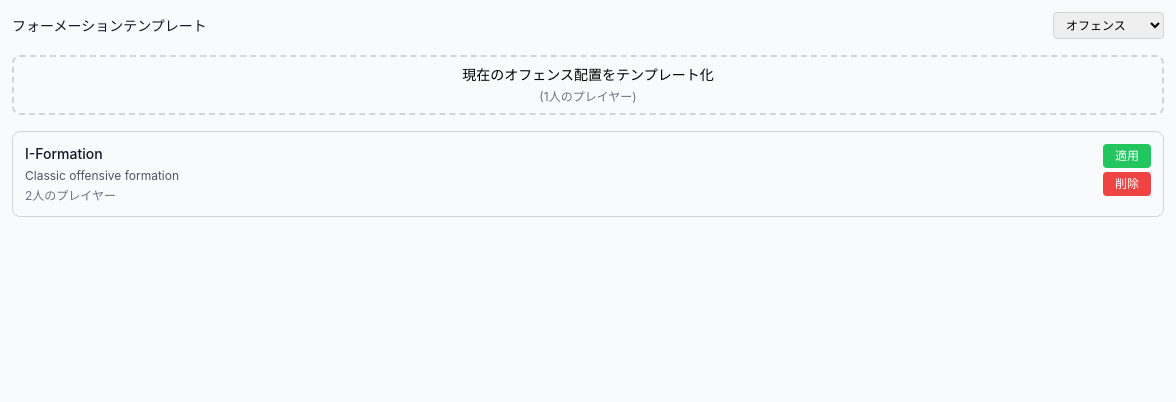
it: FormationTemplateManager Component › 新規テンプレート作成 › キャンセルボタンでフォームが閉じること
Click the button "現在のオフェンス配置をテンプレート化 (1人のプレイヤー)" at (588, 85), box [12, 55, 1164, 115]
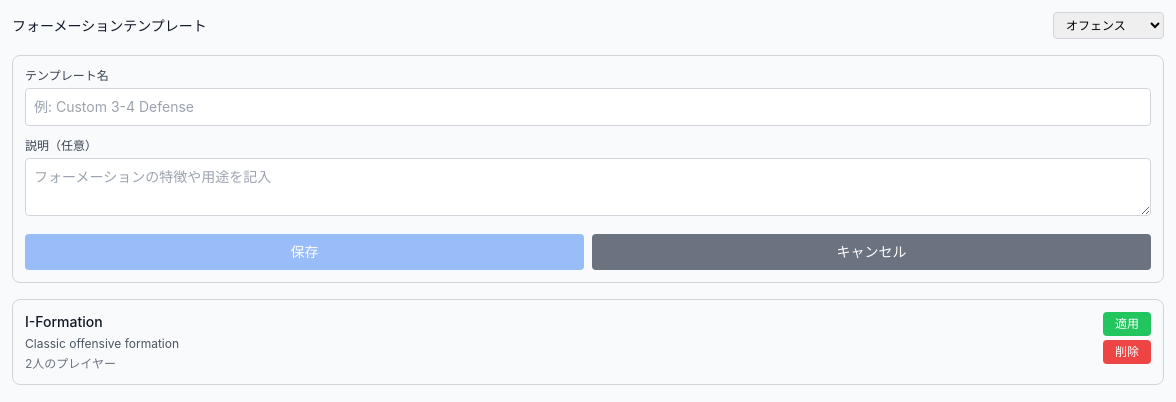
Type "テスト名前" into the field with placeholder "例: Custom 3-4 Defense" at (588, 107), box [25, 88, 1151, 126]
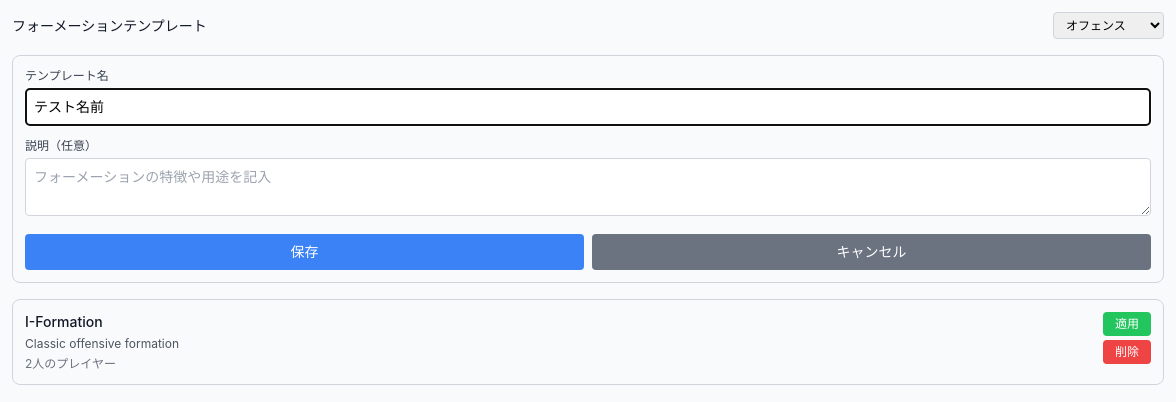
Click the button "キャンセル" at (872, 252), box [592, 234, 1151, 270]
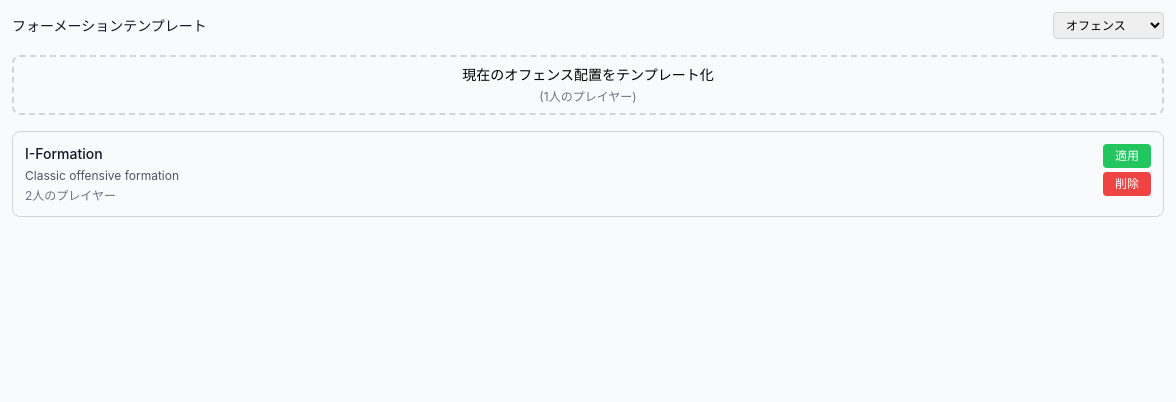
Expected: the field with placeholder "例: Custom 3-4 Defense" is not shown
Expected: the button "現在のオフェンス配置をテンプレート化 (1人のプレイヤー)" is shown, [12, 55, 1164, 115]
